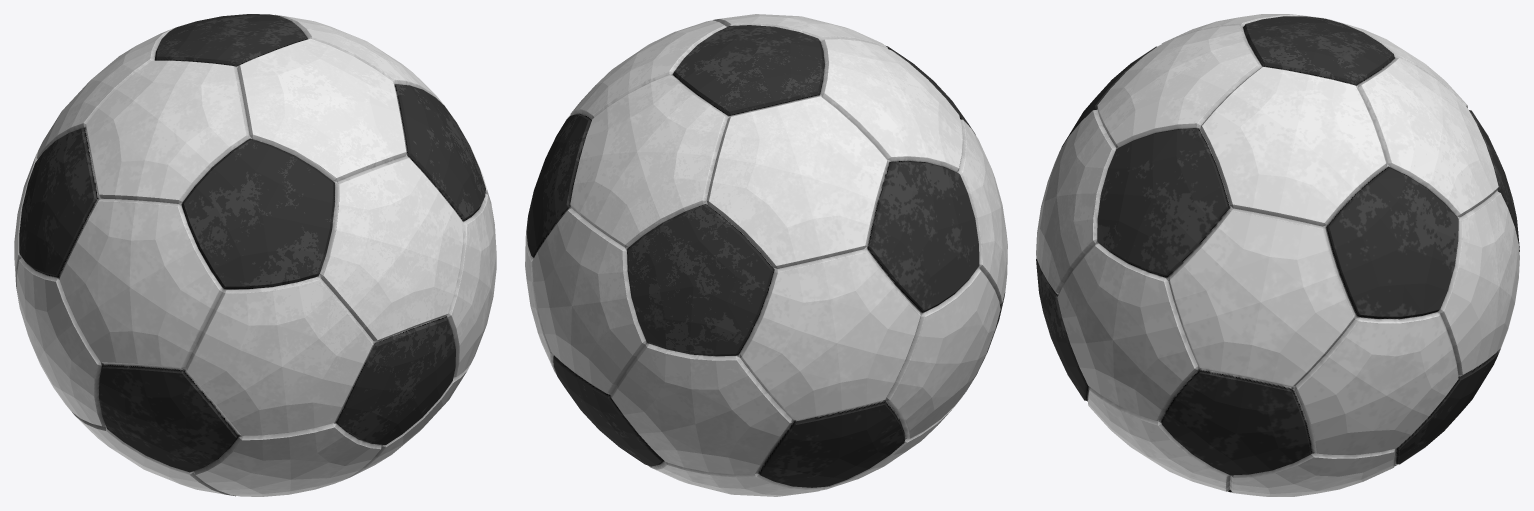
File: balonfutbol.obj
The picture shows the model from 3 angles, left to right: view 1: azimuth 30°, elevation 25°; view 2: azimuth 150°, elevation 25°; view 3: azimuth 270°, elevation 25°; orthographic projection.
Parts seen in each view (by area): view 1: Object.1; view 2: Object.1; view 3: Object.1.
Boxes of the visible parts, x1,y1,x2,y2 form: Object.1: [14, 14, 496, 496]; Object.1: [525, 14, 1007, 496]; Object.1: [1036, 14, 1519, 496].
Bounding box in the file's own units: 223 × 223 × 223.
Materials: 1 (1 with a texture image).
